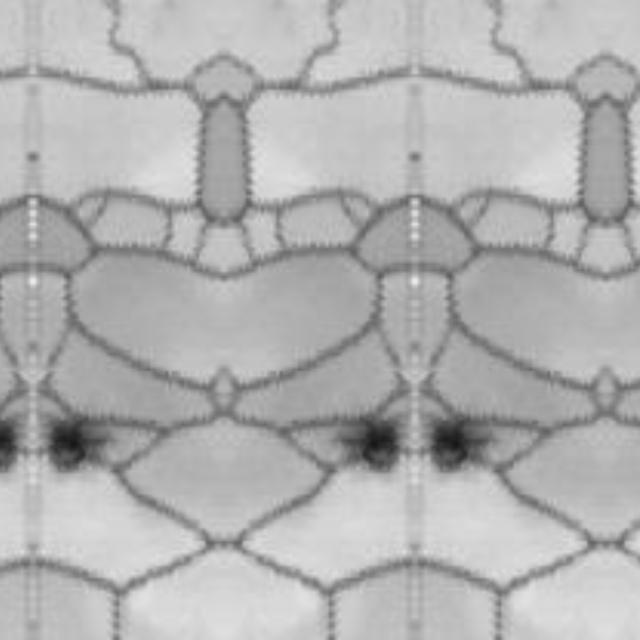good_void: (340, 403, 414, 476), (418, 403, 492, 476), (35, 403, 108, 476), (0, 404, 31, 476)
